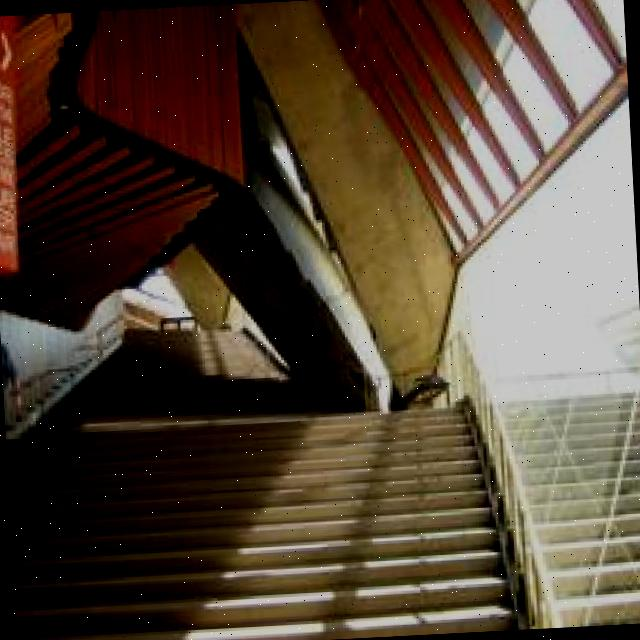stairs: (4, 390, 529, 640)
